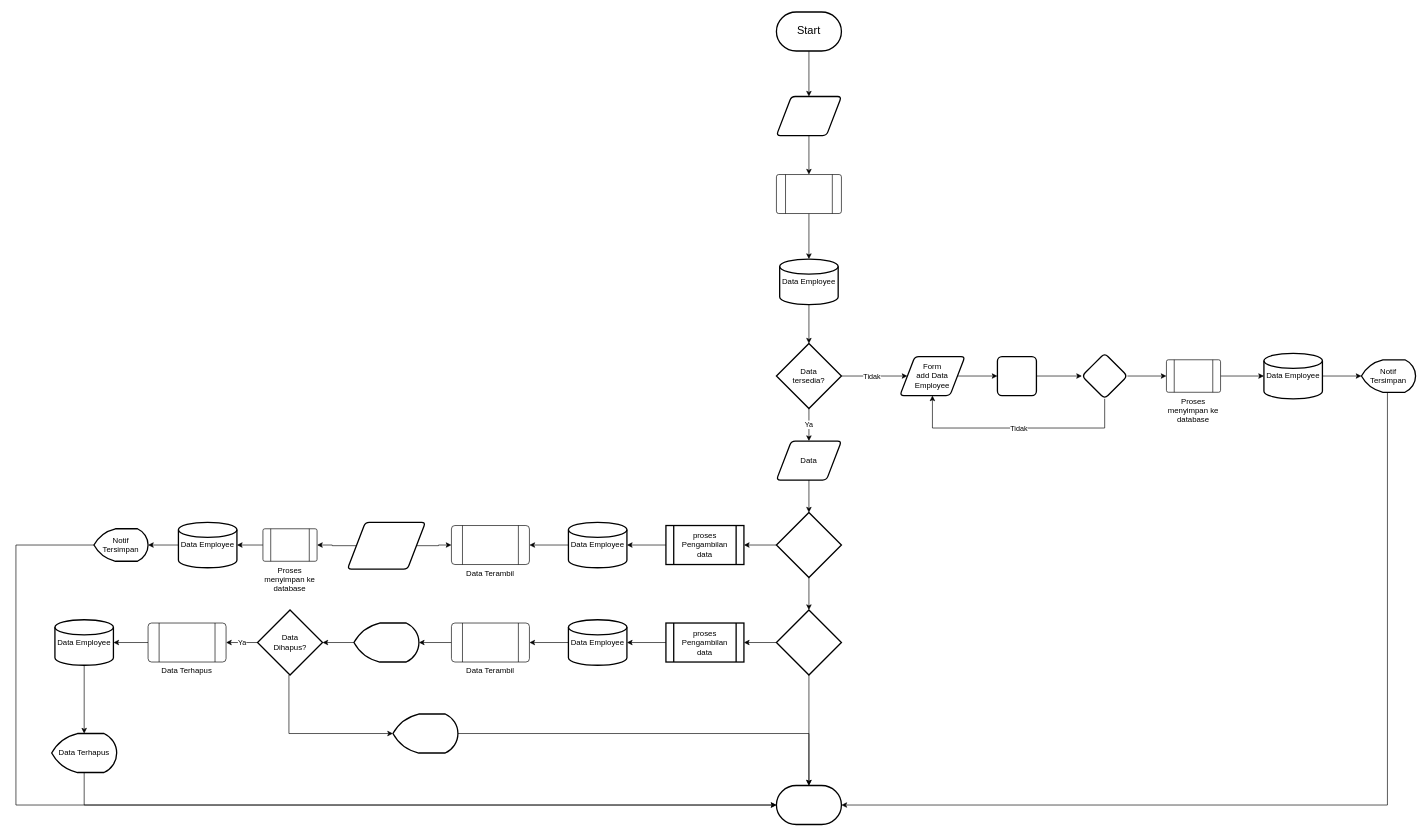
Image size: 1427x836. Some labels were removed from this diagram. The shapes that lost their labels are listed below. From the top down, each one's box as (x1, y1, x2, y2) in pixels, then its label:
(775, 96, 842, 136): Menu Employee
(776, 174, 841, 214): proses Cek Data di Database
(996, 356, 1037, 396): validasi Data
(1081, 352, 1128, 399): Valid?
(346, 521, 426, 569): Form Edit data Employee
(775, 512, 842, 578): Edit
(353, 622, 419, 662): Notif data akan dihapuskan
(775, 609, 842, 675): Delete
(392, 713, 458, 753): Notif data gagal dihpus
(775, 785, 842, 825): End
